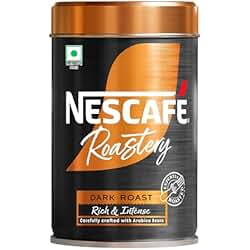Coffee: (51, 1, 198, 244)
